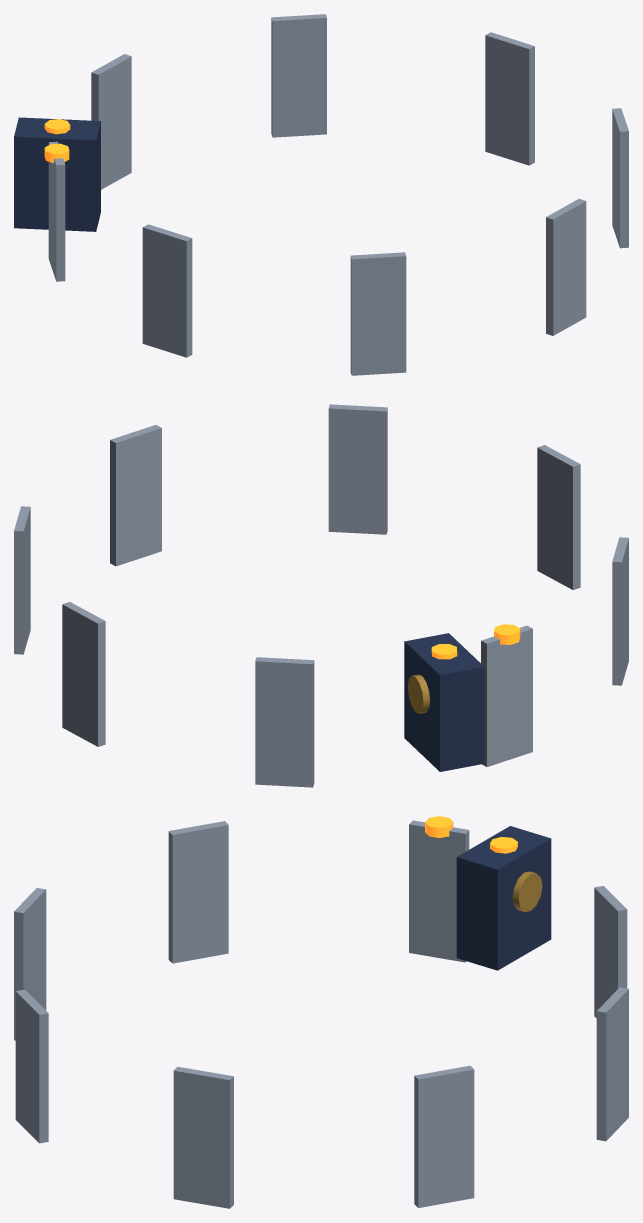
File: tower_overclock_efficiency_s3.glb
The picture shows the model from 3 angles, top to bottom: view 1: azimuth 30°, elevation 25°; view 2: azimuth 150°, elevation 25°; view 3: azimuth 270°, elevation 25°; orthographic projection. The views are drawn at different scales.
Parts seen in each view (by area): view 1: overclock_regulator, overclock_base_fin6, overclock_base_fin2, overclock_base_fin7, overclock_base_fin3, overclock_base_fin5, overclock_base_fin1, overclock_base_fin4, overclock_base_fin0; view 2: overclock_regulator, overclock_base_fin1, overclock_base_fin5, overclock_base_fin4, overclock_base_fin0, overclock_base_fin2, overclock_base_fin6, overclock_base_fin3, overclock_base_fin7, overclock_regulator_dial; view 3: overclock_regulator, overclock_base_fin7, overclock_base_fin3, overclock_base_fin4, overclock_base_fin0, overclock_base_fin5, overclock_base_fin2, overclock_base_fin1, overclock_base_fin6, overclock_regulator_dial.
Boxes of the visible parts, x1,y1,x2,y2 form: overclock_regulator: [14, 117, 100, 231]; overclock_base_fin6: [350, 252, 406, 375]; overclock_base_fin2: [271, 14, 326, 137]; overclock_base_fin7: [142, 224, 192, 357]; overclock_base_fin3: [485, 32, 534, 165]; overclock_base_fin5: [546, 199, 586, 335]; overclock_base_fin1: [91, 54, 131, 189]; overclock_base_fin4: [612, 108, 628, 248]; overclock_base_fin0: [48, 141, 65, 281]; overclock_regulator: [404, 633, 484, 771]; overclock_base_fin1: [255, 657, 314, 787]; overclock_base_fin5: [328, 404, 387, 534]; overclock_base_fin4: [110, 425, 161, 566]; overclock_base_fin0: [481, 625, 532, 766]; overclock_base_fin2: [62, 602, 105, 746]; overclock_base_fin6: [537, 445, 580, 589]; overclock_base_fin3: [14, 506, 30, 654]; overclock_base_fin7: [612, 537, 628, 685]; overclock_regulator_dial: [407, 674, 429, 713]; overclock_regulator: [456, 826, 551, 970]; overclock_base_fin7: [168, 821, 228, 963]; overclock_base_fin3: [414, 1065, 474, 1207]; overclock_base_fin4: [173, 1066, 233, 1208]; overclock_base_fin0: [409, 820, 469, 962]; overclock_base_fin5: [15, 989, 48, 1143]; overclock_base_fin2: [596, 987, 628, 1141]; overclock_base_fin1: [594, 885, 627, 1017]; overclock_base_fin6: [14, 888, 46, 1040]; overclock_regulator_dial: [512, 871, 542, 911].
Size of the model in its own units: 1.21 by 0.291 by 1.21.
